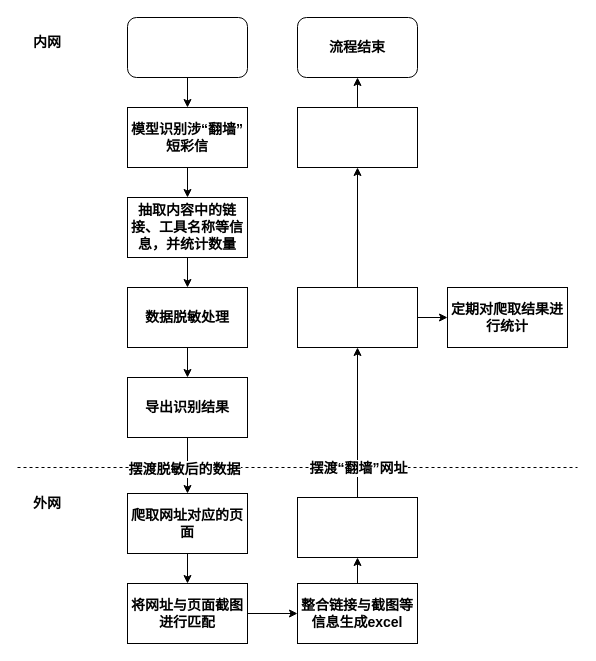
The diagram is 596 pixels wide and 661 high, and some of its shapes have lost their labels. The shapes that lost their labels are listed below. From the top down, each one's centre as x and y in pixels, then its label:
(x=187, y=47): 导入采集到的原始短彩信数据
(x=357, y=137): 通过MQ发送给关联系统“翻墙”网站爬取结果
(x=357, y=317): 导入采集到的“翻墙”网址相关数据
(x=357, y=527): 进一步人工判定哪些网址为涉“翻墙”网址
